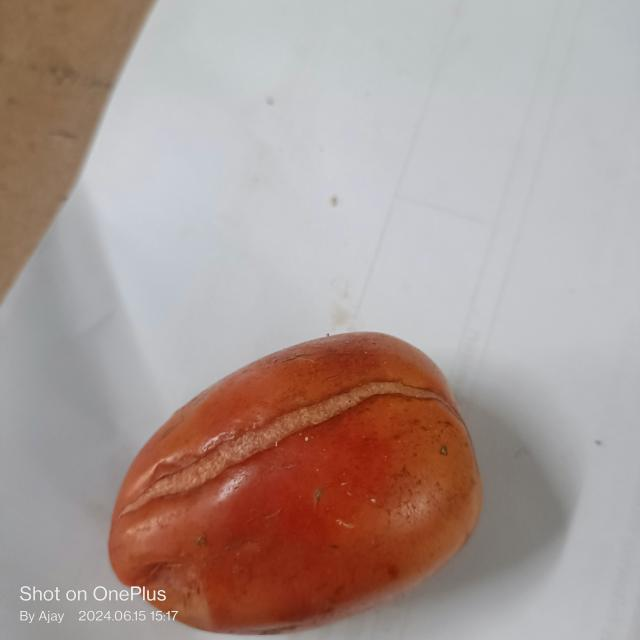tomato_cracking: (126, 384, 436, 515)
